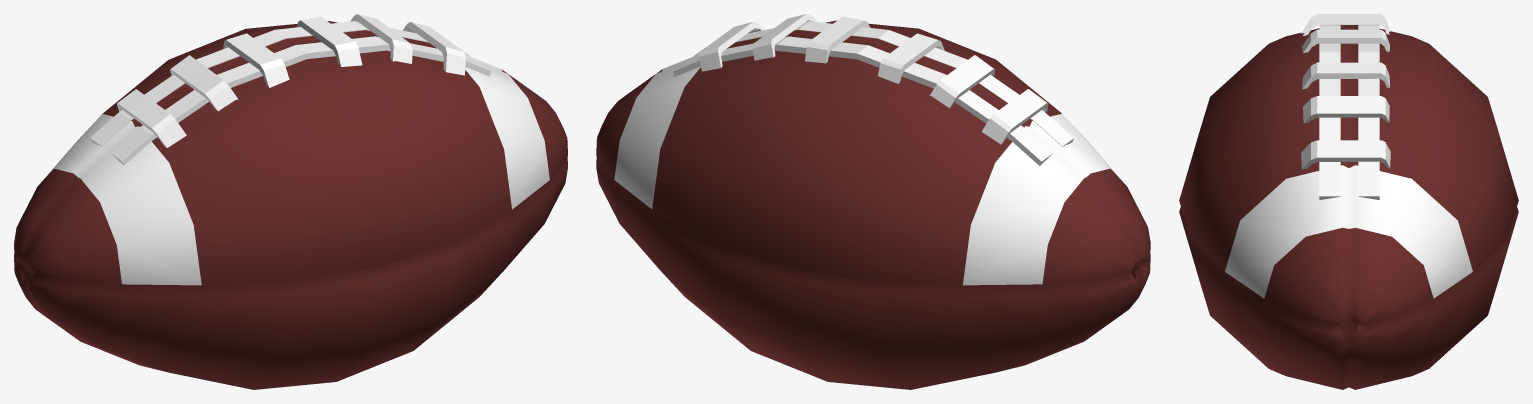
File: SM_Ball_02.glb
3 renders of one model, left to right at view 1: azimuth 30°, elevation 25°; view 2: azimuth 150°, elevation 25°; view 3: azimuth 270°, elevation 25°, orthographic. The views are drawn at different scales.
Parts seen in each view (by area): view 1: SM_Ball_02; view 2: SM_Ball_02; view 3: SM_Ball_02.
Boxes of the visible parts, x1,y1,x2,y2 form: SM_Ball_02: (14, 14, 567, 389); SM_Ball_02: (596, 14, 1150, 389); SM_Ball_02: (1179, 14, 1518, 389).
Bounding box in the file's own units: 0.4647 × 0.2743 × 0.2723.
Materials: 1 (1 with a texture image).
